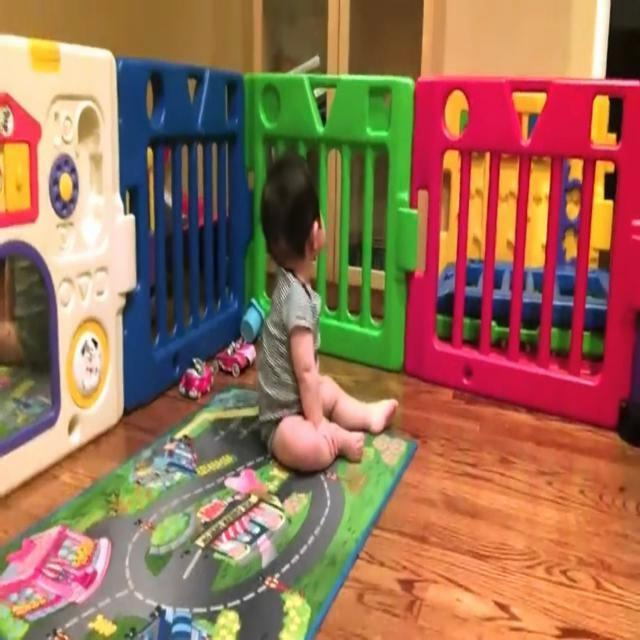child: (256, 159, 400, 473)
